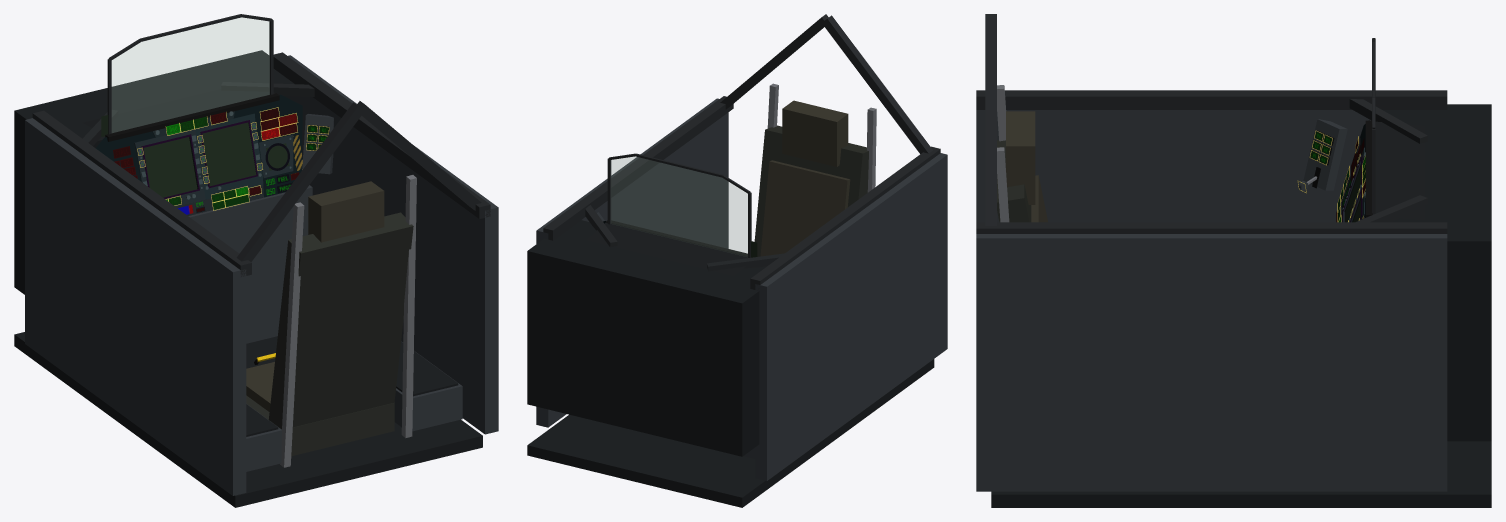
Rendered from cockpit_classic.glb.
3 renders of one model, left to right at view 1: azimuth 30°, elevation 25°; view 2: azimuth 150°, elevation 25°; view 3: azimuth 270°, elevation 25°, orthographic. The views are drawn at different scales.
Visible parts, largest first — view 1: panel_grey_102, panel_grey_106, seat_122, hud_glass_96, dark_110, dark_100, panel_grey_101, cushion_124, frame_103, frame_107, seat_120, metal_125 (+18 smaller); view 2: dark_100, panel_grey_102, dark_110, panel_grey_106, hud_glass_96, cushion_123, cushion_124, frame_107, seat_122, dark_98, frame_103, frame_117 (+5 smaller); view 3: panel_grey_106, panel_grey_102, dark_100, dark_110, frame_103, frame_107, dark_98, frame_119, cushion_124, panel_grey_496, frame_116, seat_122 (+3 smaller).
Boxes of the visible parts, bbox=[...] form: panel_grey_102: bbox=[25, 118, 246, 495]; panel_grey_106: bbox=[288, 55, 498, 434]; seat_122: bbox=[268, 212, 413, 429]; hud_glass_96: bbox=[112, 18, 269, 132]; dark_110: bbox=[14, 332, 482, 507]; dark_100: bbox=[14, 50, 309, 294]; panel_grey_101: bbox=[188, 185, 312, 343]; cushion_124: bbox=[308, 181, 384, 242]; frame_103: bbox=[32, 110, 251, 276]; frame_107: bbox=[273, 52, 490, 218]; seat_120: bbox=[246, 395, 394, 456]; metal_125: bbox=[280, 202, 304, 467]; dark_100: bbox=[527, 220, 766, 456]; panel_grey_102: bbox=[755, 153, 947, 480]; dark_110: bbox=[527, 359, 934, 507]; panel_grey_106: bbox=[536, 98, 728, 427]; hud_glass_96: bbox=[611, 157, 747, 256]; cushion_123: bbox=[760, 160, 850, 256]; cushion_124: bbox=[782, 100, 848, 166]; frame_107: bbox=[543, 96, 733, 240]; seat_122: bbox=[754, 125, 868, 256]; dark_98: bbox=[586, 222, 747, 276]; frame_103: bbox=[750, 146, 940, 289]; frame_117: bbox=[822, 15, 932, 153]; panel_grey_106: bbox=[976, 234, 1447, 491]; panel_grey_102: bbox=[976, 110, 1370, 222]; dark_100: bbox=[1383, 104, 1491, 441]; dark_110: bbox=[991, 441, 1491, 507]; frame_103: bbox=[976, 90, 1447, 109]; frame_107: bbox=[976, 222, 1447, 233]; dark_98: bbox=[1373, 121, 1424, 220]; frame_119: bbox=[985, 17, 996, 225]; cushion_124: bbox=[1006, 111, 1035, 204]; panel_grey_496: bbox=[1303, 119, 1347, 190]; frame_116: bbox=[1349, 99, 1427, 143]; seat_122: bbox=[997, 140, 1031, 222].
Bounding box in the file's own units: 1.18 × 1.59 × 1.75.
Materials: 31 (14 with a texture image).
